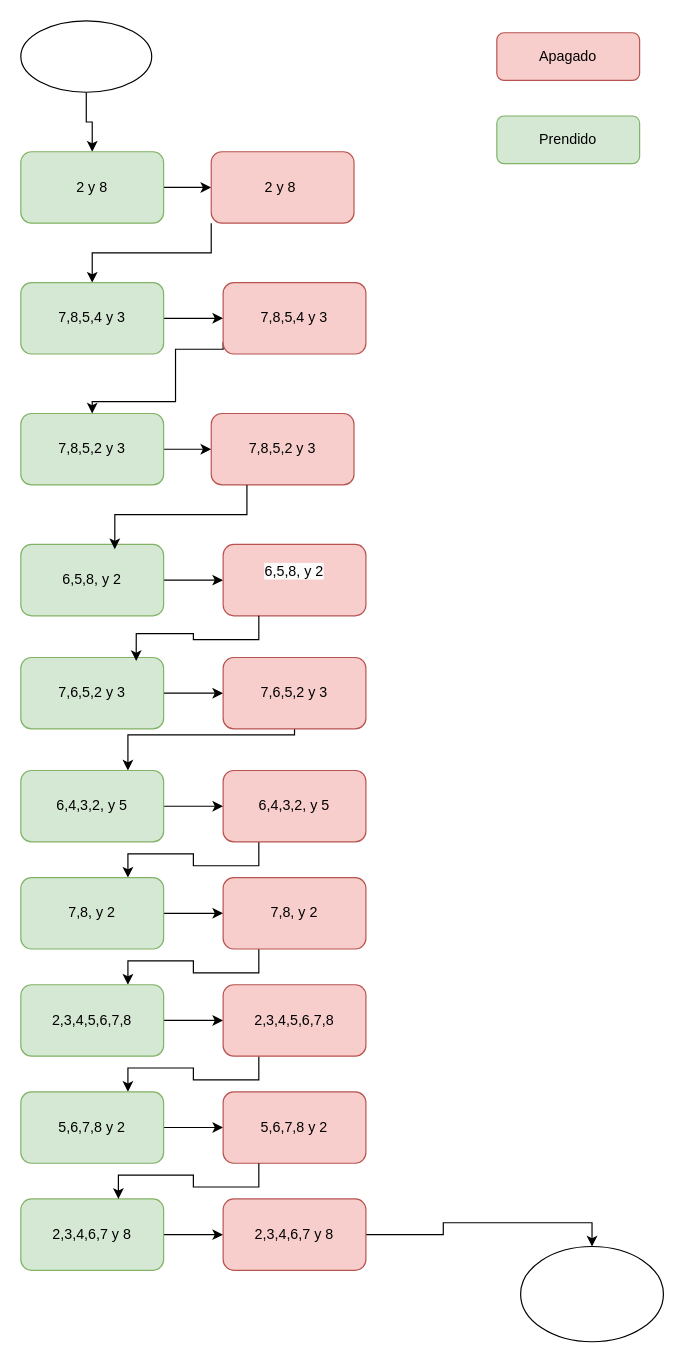
Image size: 684x1363. Some labels were removed from this diagram. Each missing label, with the box of its shape:
Comenzo: (20, 20, 152, 92)
Finales): (519, 1245, 663, 1342)
